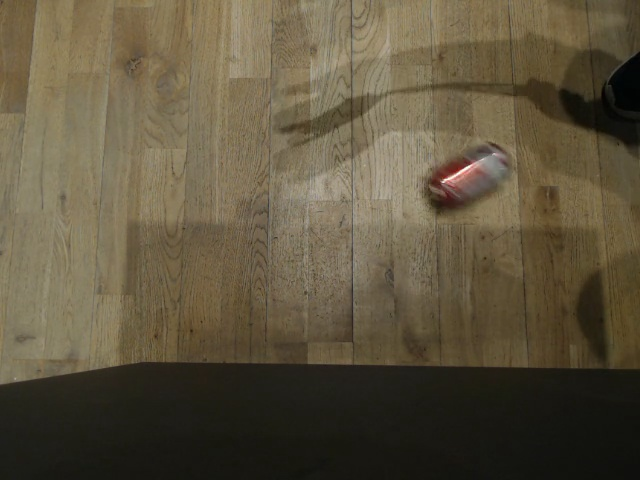cola: (427, 139, 514, 210)
